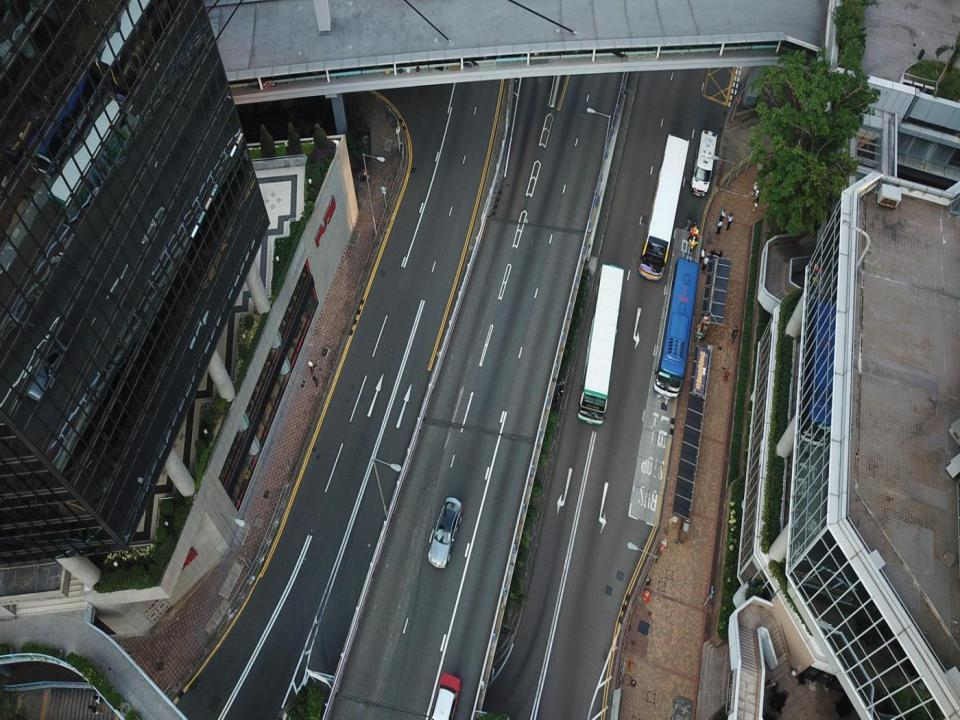bus: (637, 131, 689, 282), (577, 264, 622, 423)
car: (426, 497, 463, 572), (428, 673, 463, 719)
van: (689, 127, 718, 200)
